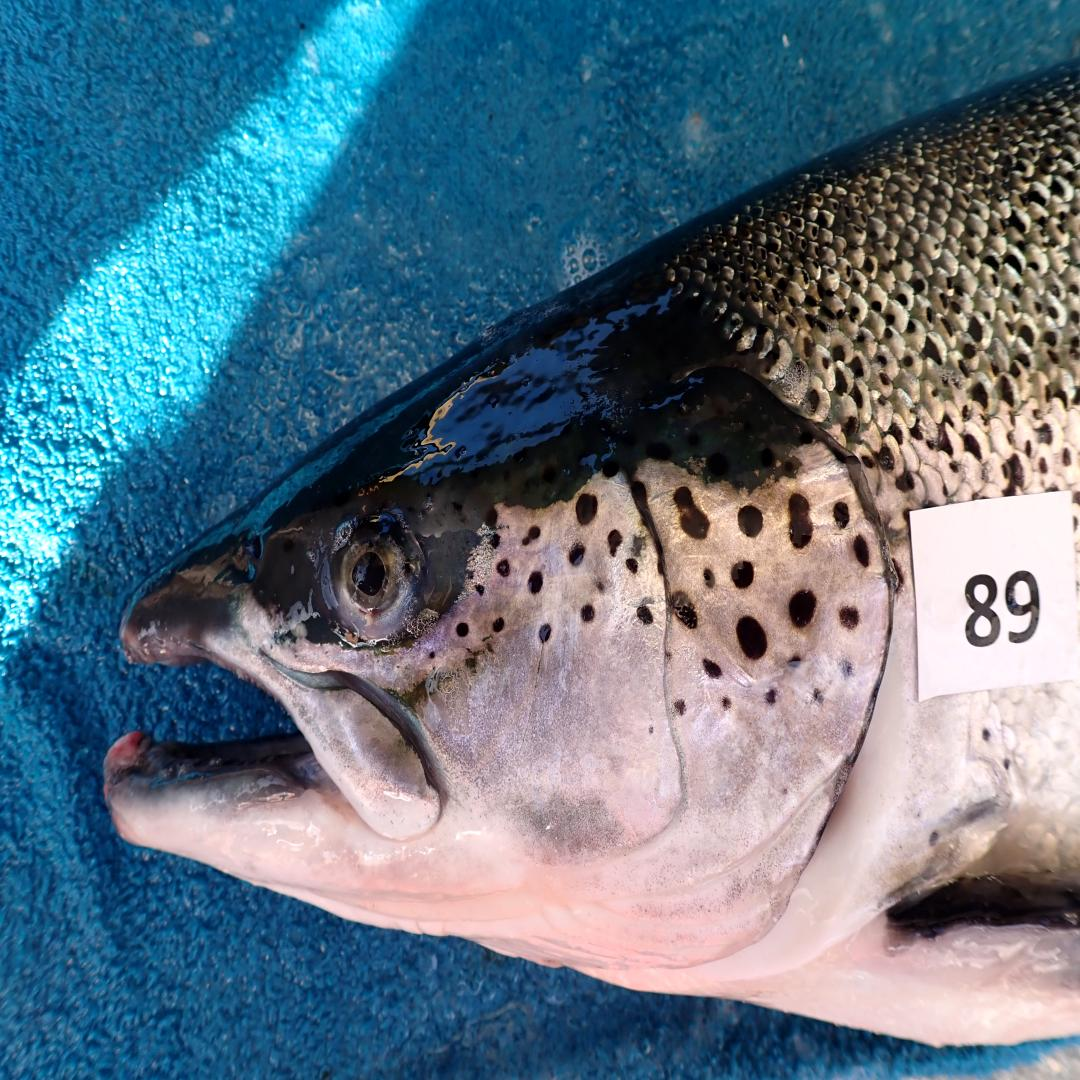roi: (431, 442, 898, 986)
